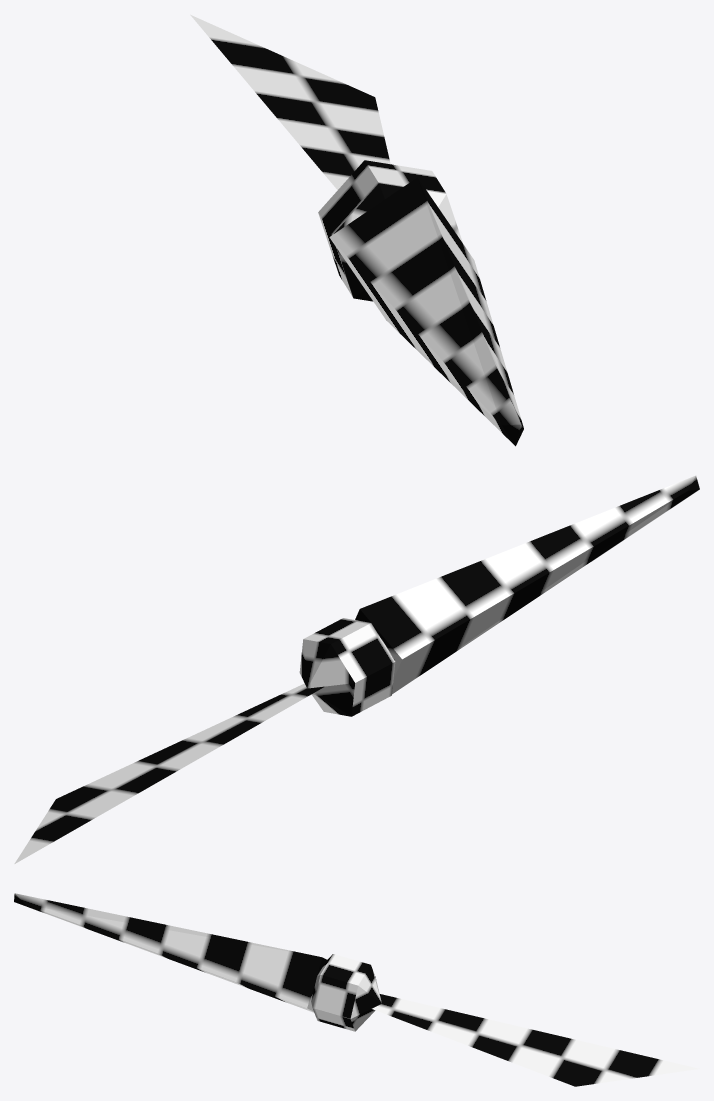
File: initqu21.dae
The picture shows the model from 3 angles, top to bottom: view 1: azimuth 30°, elevation 25°; view 2: azimuth 150°, elevation 25°; view 3: azimuth 270°, elevation 25°; orthographic projection. The views are drawn at different scales.
Parts seen in each view (by area): view 1: item; view 2: item; view 3: item.
Part boxes in pixels (bbox=[...]): item: bbox=[190, 14, 523, 446]; item: bbox=[14, 475, 699, 863]; item: bbox=[14, 893, 699, 1086].
Bounding box in the file's own units: 0.5793 × 1.64 × 0.2427.
Materials: 1 (1 with a texture image).
